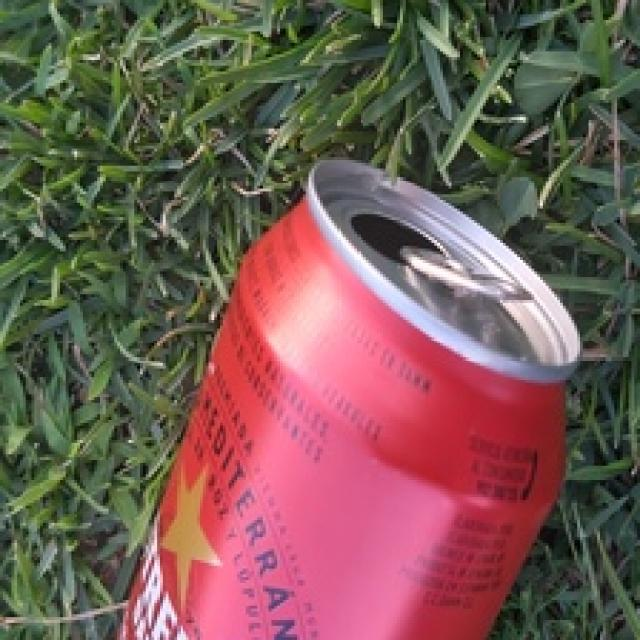recyclable: (115, 154, 580, 640)
